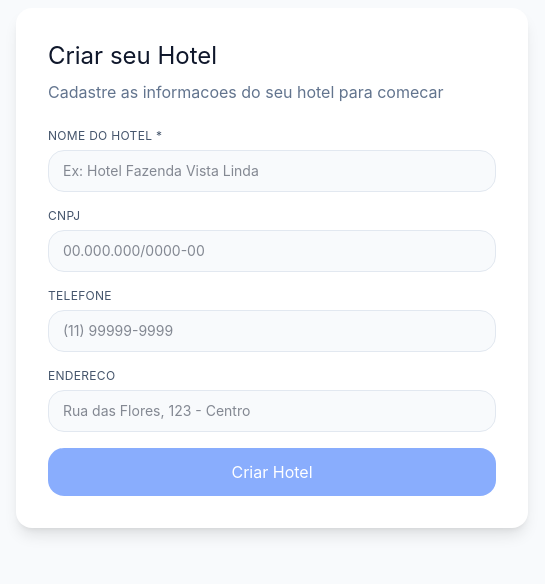
CreateEmpresa (expanded) › shows error message on createEmpresa failure
Type "Hotel X" into the field with placeholder "Ex: Hotel Fazenda Vista Linda" at (272, 171), box [48, 150, 496, 192]
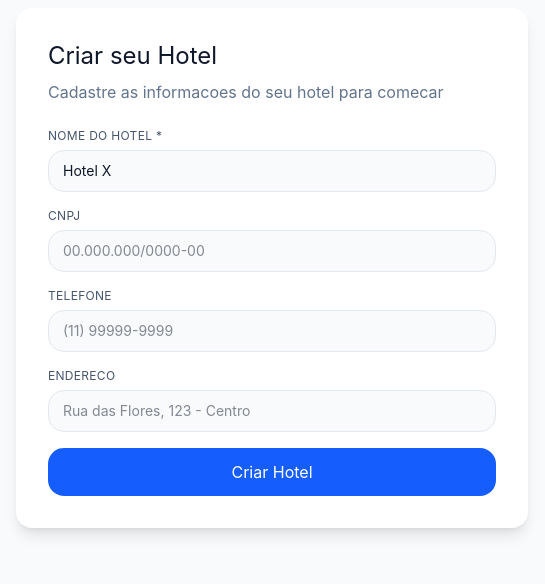
Submit the text "Criar Hotel", box [48, 128, 496, 496]
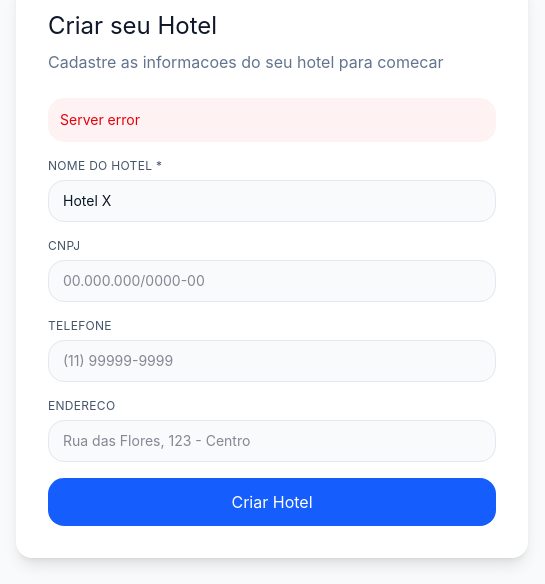
Result: the text "Server error" is shown at [48, 98, 496, 142]
